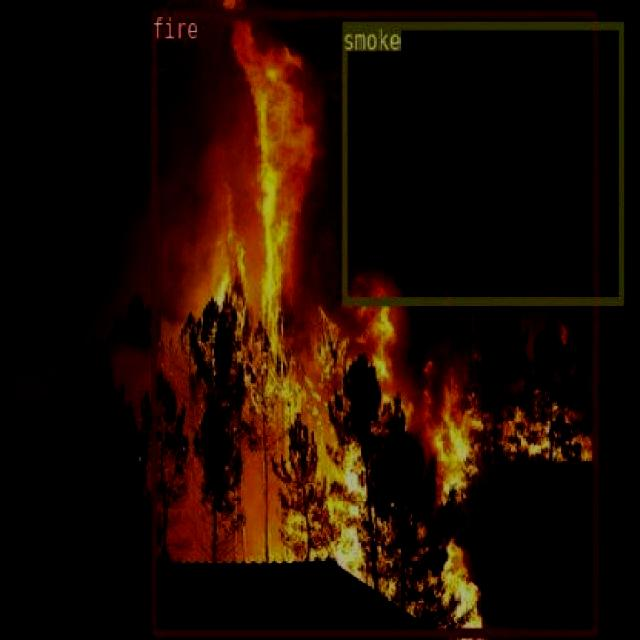fire: (151, 8, 597, 634)
smoke: (340, 20, 622, 302)
